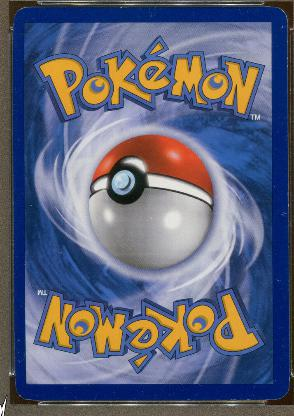Card: (11, 4, 291, 404)
Corner Wear: (267, 378, 289, 400), (17, 392, 38, 402), (278, 8, 289, 22), (14, 378, 18, 388)
Edge Wear: (285, 182, 287, 209), (227, 398, 252, 400), (12, 102, 14, 116), (285, 55, 286, 65), (118, 6, 127, 7)
Scratch: (146, 7, 158, 18), (51, 247, 63, 256), (176, 379, 184, 386), (273, 278, 282, 284), (188, 11, 194, 17), (278, 210, 284, 216), (16, 357, 20, 363), (212, 362, 218, 366), (277, 25, 281, 31), (27, 202, 32, 206), (236, 8, 239, 14), (23, 352, 25, 360), (218, 7, 223, 9), (17, 339, 20, 341), (139, 8, 140, 8)
